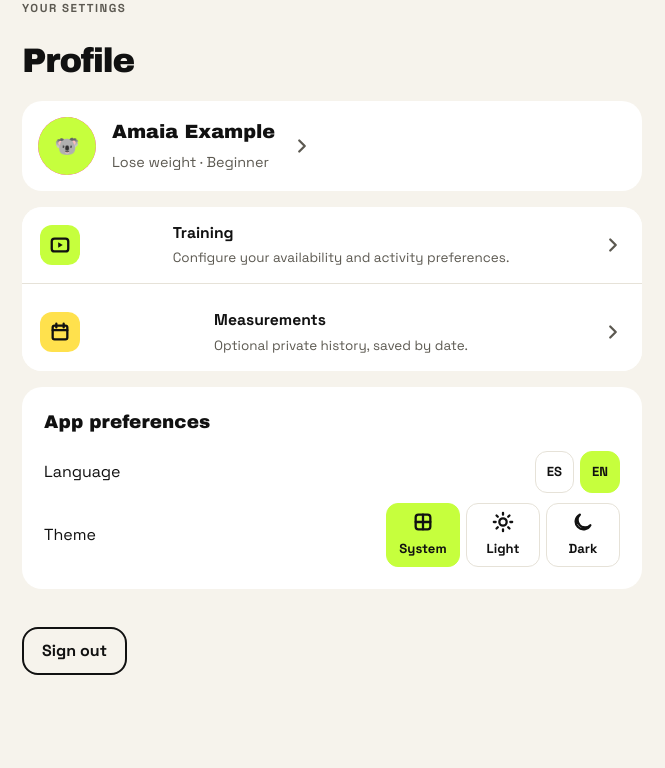
Test case: profile redesign › opens personal details from the profile card and places account deletion at the end of that page
Click the link with aria-label "Edit personal details".
click(67, 146)  # box left=22, top=101, right=642, bottom=191
(page scrolled)
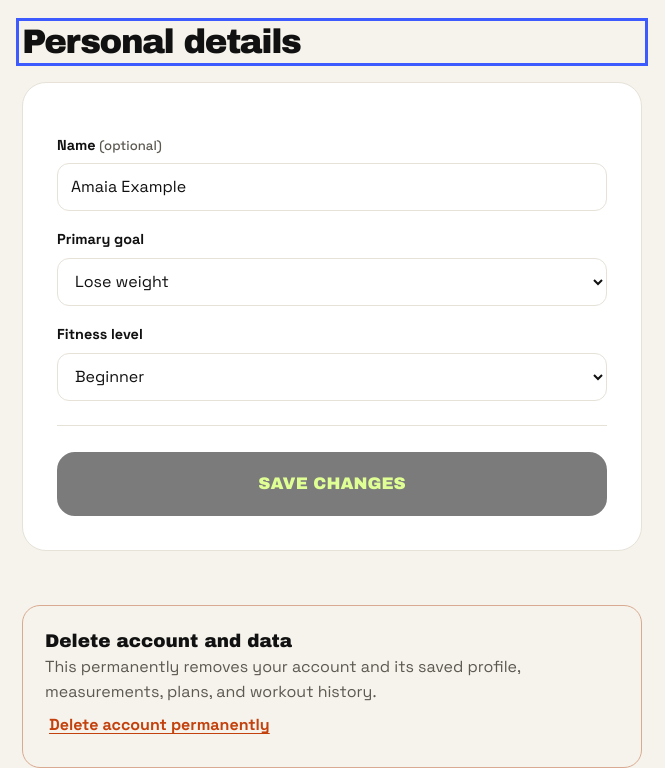
Expected: the heading "Personal details" is shown, left=22, top=23, right=300, bottom=60
Expected: the button "Delete account permanently" is shown, left=45, top=705, right=274, bottom=745
